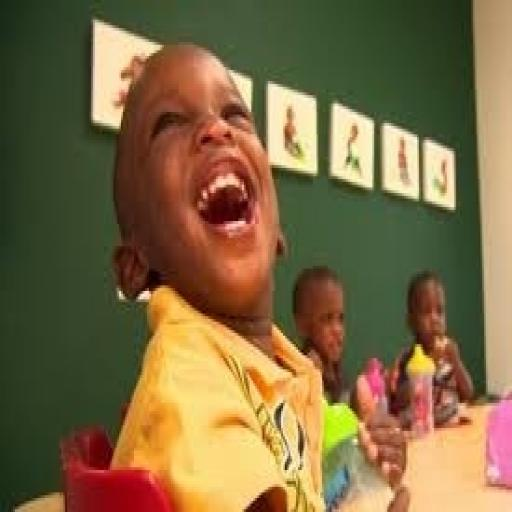laughing: (88, 31, 412, 506)
